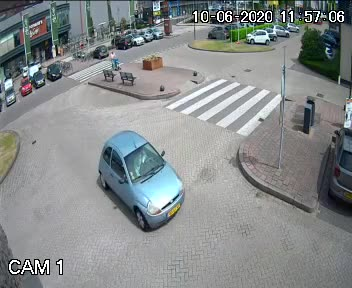car: (88, 129, 195, 240)
